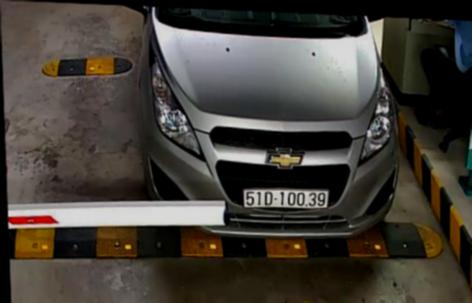License_Plate: (240, 181, 331, 214)
